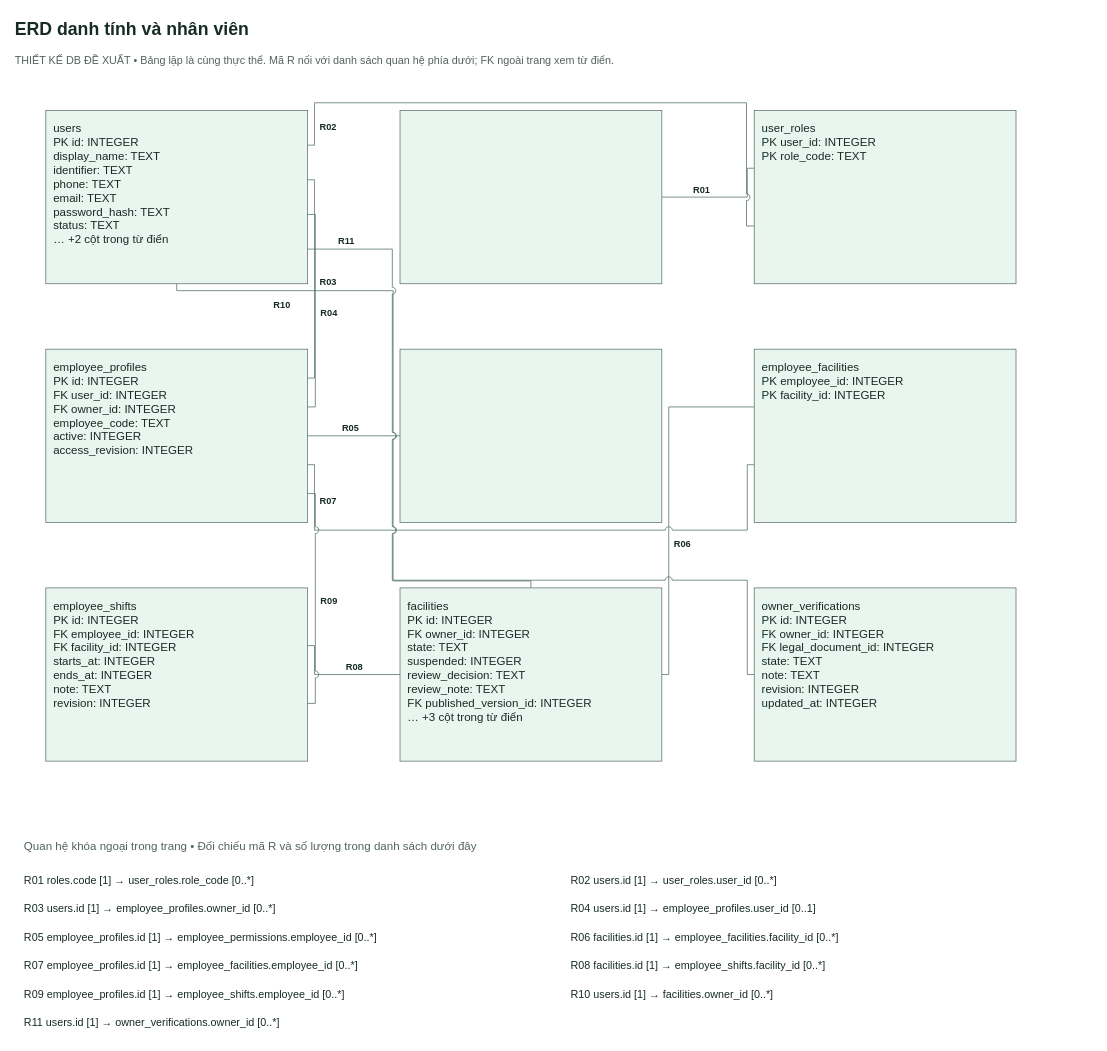
Image size: 1107x1051. Some labels were removed from this diagram. The centre of each missing label's shape, as x and y in pixels:
employee_permissions PK employee_id: INTEGER PK permission: TEXT: [530,435]
roles PK code: TEXT: [530,197]
